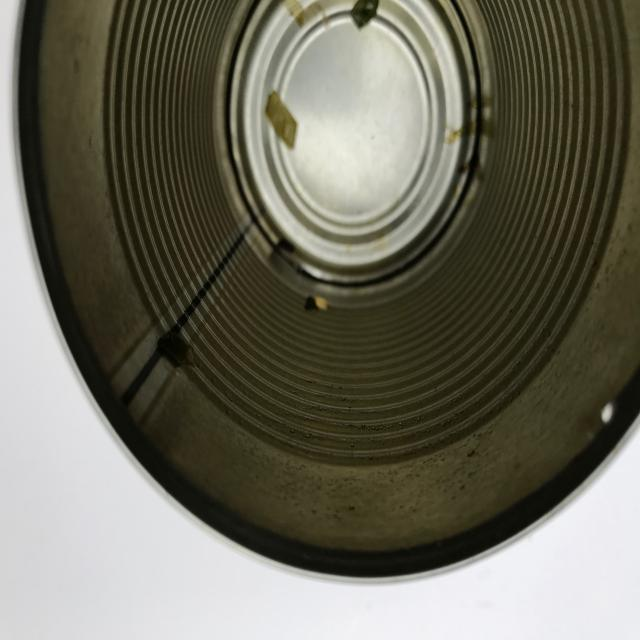metal: (13, 1, 640, 586)
